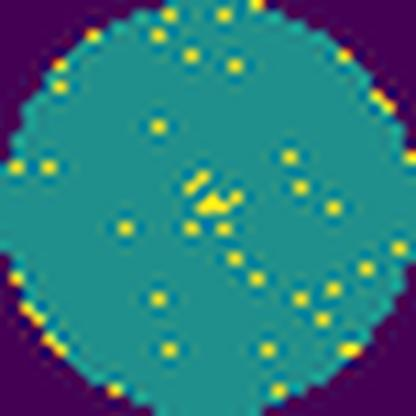Center: (179, 169, 249, 214)
